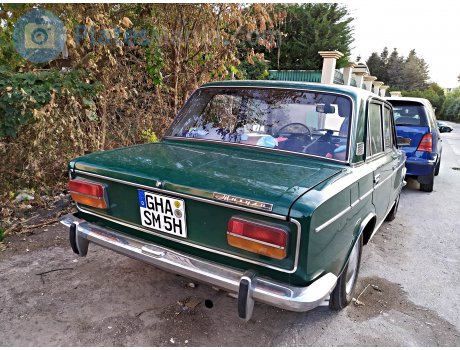License Plates: (140, 192, 185, 231)
